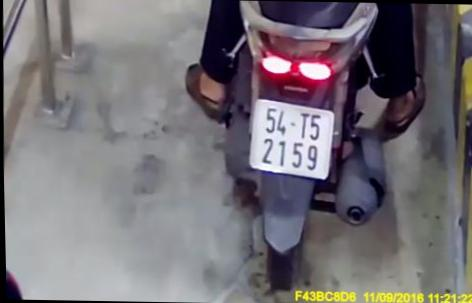LP: (245, 96, 336, 181)
